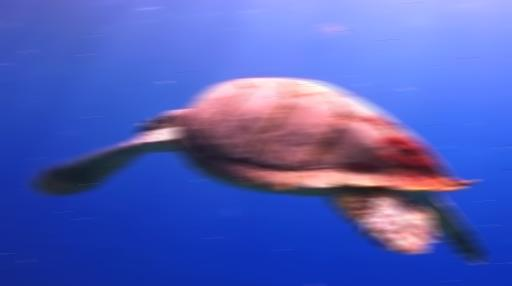Fish: (34, 78, 483, 263)
